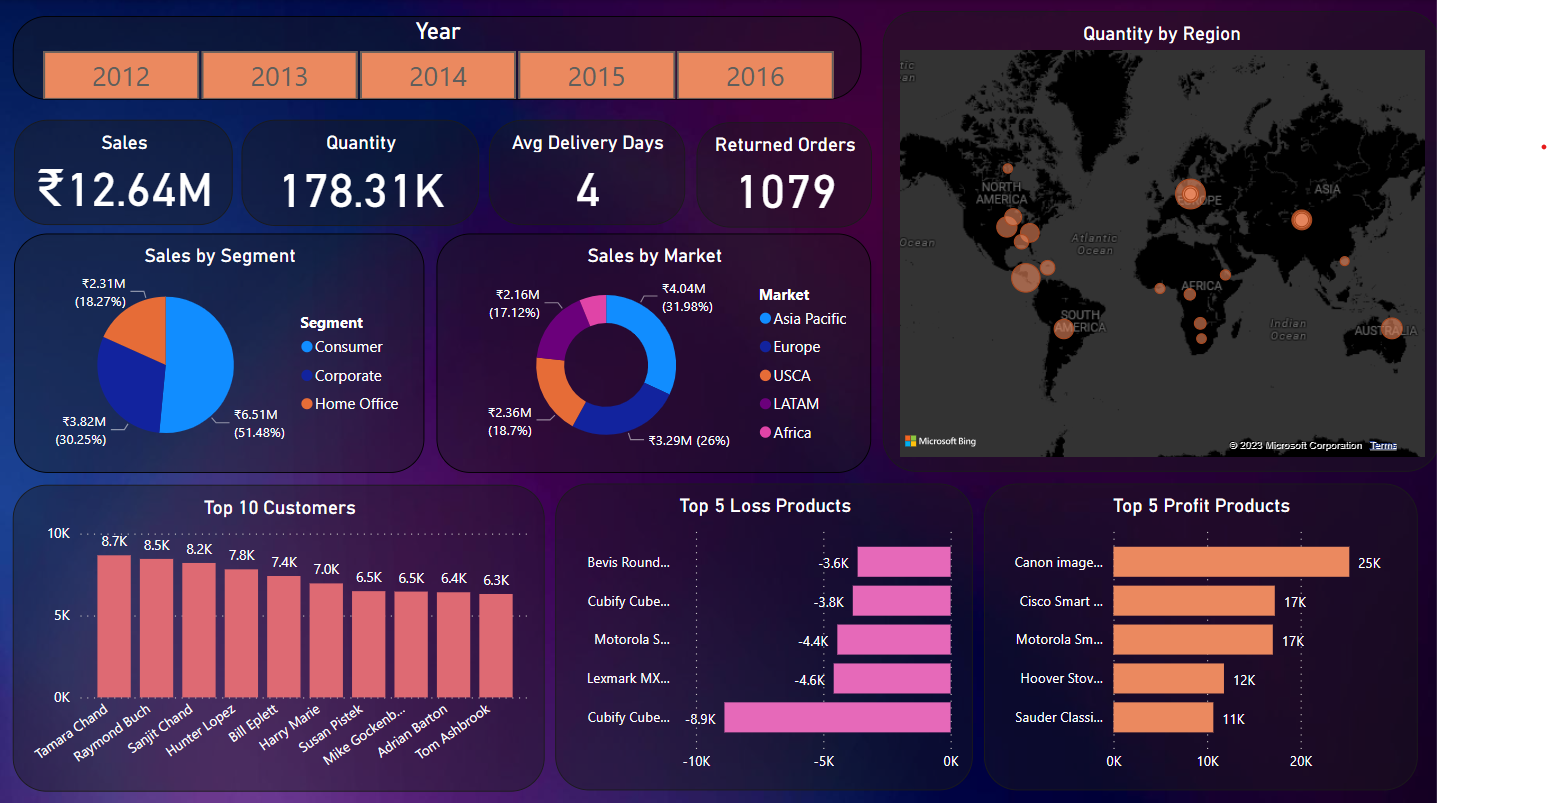

Layout of this report page (visuals, bound fields, positions):
{"tool":"powerbi","page":{"name":"Page 1","canvas":[1280,720],"ordinal":0},"visuals":[{"type":"card","title":"Sales","fields":{"Values":["Orders.Sales"]},"box":[13.7,109.7,194.7,93.2],"z":0},{"type":"card","title":"Quantity","fields":{"Values":["Orders.Quantity"]},"box":[215.3,109.7,211.1,94.6],"z":1000},{"type":"card","title":"Avg Delivery Days","fields":{"Values":["Orders.Delivery Days"]},"box":[436,109.7,174.1,93.2],"z":2000},{"type":"slicer","title":"Year","fields":{"Values":["Orders.Year"]},"box":[12.3,17.8,754.1,74],"z":3000},{"type":"card","title":"Returned Orders","fields":{"Values":["Returns.Returned Orders"]},"box":[619.7,112.4,156.3,93.2],"z":4000},{"type":"map","title":" Quantity by Region","fields":{"Category":["Orders.Region"],"Size":["Orders.Quantity"]},"box":[785.6,13.7,494.9,409.9],"z":5000},{"type":"clusteredBarChart","title":"Top 5 Profit Products","fields":{"Category":["Orders.Product Name"],"Y":["Orders.Profit"]},"box":[876.1,433.3,385.3,272.8],"z":6000},{"type":"clusteredBarChart","title":"Top 5 Loss Products","fields":{"Category":["Orders.Product Name"],"Y":["Orders.Profit"]},"box":[494.9,433.3,371.6,272.8],"z":7000},{"type":"pieChart","title":"Sales by Segment","fields":{"Category":["Orders.Segment"],"Y":["Orders.Sales"]},"box":[13.7,211.1,364.7,212.5],"z":8000},{"type":"donutChart","title":"Sales by Market","fields":{"Category":["Orders.Market"],"Y":["Orders.Sales"]},"box":[389.4,211.1,386.6,212.5],"z":9000},{"type":"columnChart","title":"Top 10 Customers","fields":{"Category":["Orders.Customer Name"],"Y":["Orders.Profit"]},"box":[12.3,434.6,473,272.8],"z":9001}]}

Visuals, with their boxes on the page's 1280x720 design canvas (x1, y1, x2, y2). These are canvas units, not pixel positions in the 1547x803 screenshot, which may show the page scaled, cropped or inside an application window:
"Sales" card: <bbox>14, 110, 208, 203</bbox>
"Quantity" card: <bbox>215, 110, 426, 204</bbox>
"Avg Delivery Days" card: <bbox>436, 110, 610, 203</bbox>
"Year" slicer: <bbox>12, 18, 766, 92</bbox>
"Returned Orders" card: <bbox>620, 112, 776, 206</bbox>
" Quantity by Region" map: <bbox>786, 14, 1280, 424</bbox>
"Top 5 Profit Products" clusteredBarChart: <bbox>876, 433, 1261, 706</bbox>
"Top 5 Loss Products" clusteredBarChart: <bbox>495, 433, 866, 706</bbox>
"Sales by Segment" pieChart: <bbox>14, 211, 378, 424</bbox>
"Sales by Market" donutChart: <bbox>389, 211, 776, 424</bbox>
"Top 10 Customers" columnChart: <bbox>12, 435, 485, 707</bbox>
